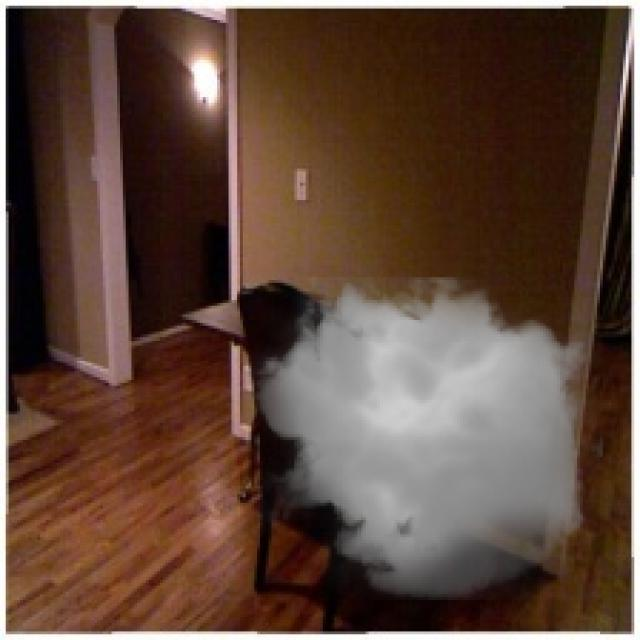Smoke: (243, 263, 603, 612)
